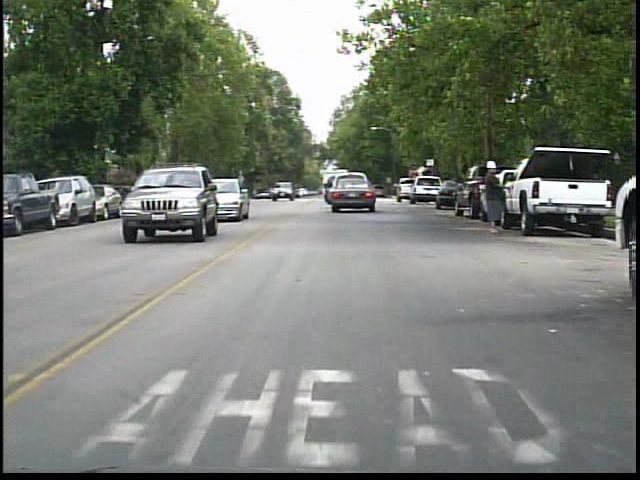person: (479, 158, 511, 238)
